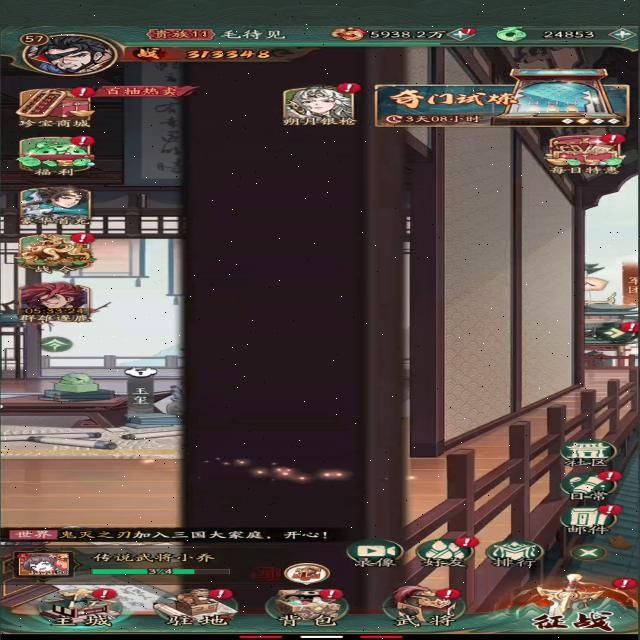hint-reddot: (450, 534, 486, 552), (433, 586, 473, 602), (311, 586, 350, 602), (209, 585, 242, 603), (64, 132, 95, 150), (65, 230, 99, 246), (606, 575, 640, 590), (588, 503, 627, 516), (329, 80, 365, 93), (594, 469, 625, 484), (90, 586, 119, 600), (599, 132, 624, 146), (453, 25, 482, 37), (619, 318, 640, 334)
navigation-DailyDiscount: (538, 130, 631, 178)
navigation-bag: (258, 581, 360, 631)
navigation-community: (550, 435, 623, 470)
navigation-dailyTask: (552, 467, 630, 503)
navigation-fight: (499, 572, 640, 638)
navigation-friends: (414, 531, 479, 572)
navigation-hero: (374, 580, 478, 632)
navigation-mail: (552, 502, 622, 536)
navigation-main: (31, 582, 139, 633)
navigation-rank: (482, 537, 546, 571)
navigation-role: (6, 26, 129, 80)
navigation-station-on: (152, 582, 248, 632)
navigation-treasureMall: (15, 82, 100, 130)
navigation-welfare: (12, 132, 109, 181)
operation-close: (570, 543, 608, 563)
